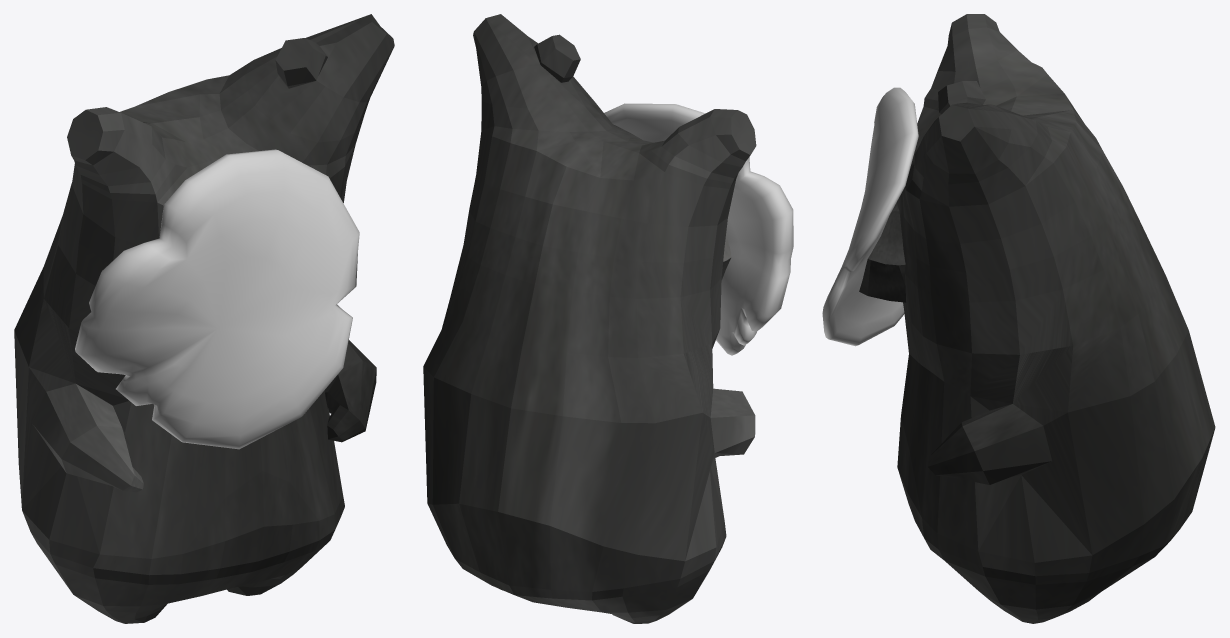
The model's file is frame_0006.obj.
3 views of the same model, side by side, from view 1: azimuth 30°, elevation 25°; view 2: azimuth 150°, elevation 25°; view 3: azimuth 270°, elevation 25° (orthographic). The views are drawn at different scales.
Visible parts, largest first — view 1: korok, leaf; view 2: korok, leaf; view 3: korok, leaf, nose.
Part boxes in pixels (bbox=[...]): korok: bbox=[14, 14, 394, 623]; leaf: bbox=[75, 149, 359, 449]; korok: bbox=[423, 14, 756, 623]; leaf: bbox=[604, 103, 793, 355]; korok: bbox=[897, 14, 1215, 623]; leaf: bbox=[822, 87, 918, 346]; nose: bbox=[859, 202, 906, 302].
Size of the model in its own units: 1.29 by 2.21 by 1.43.
